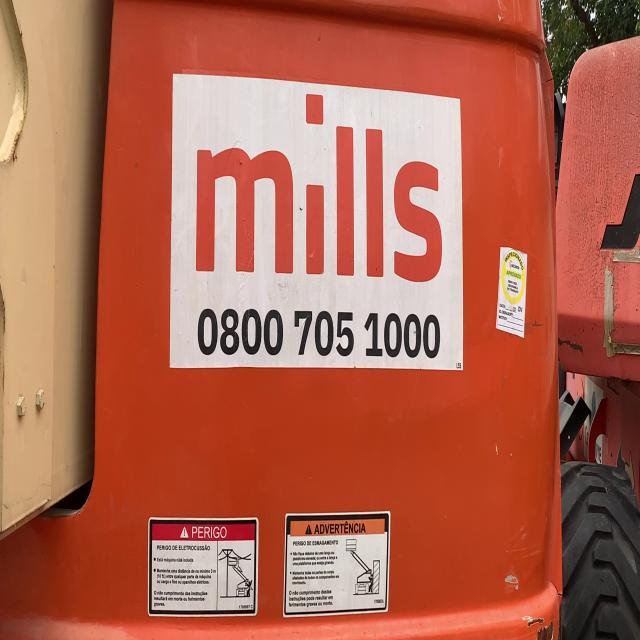Adesivos: (166, 69, 465, 379)
